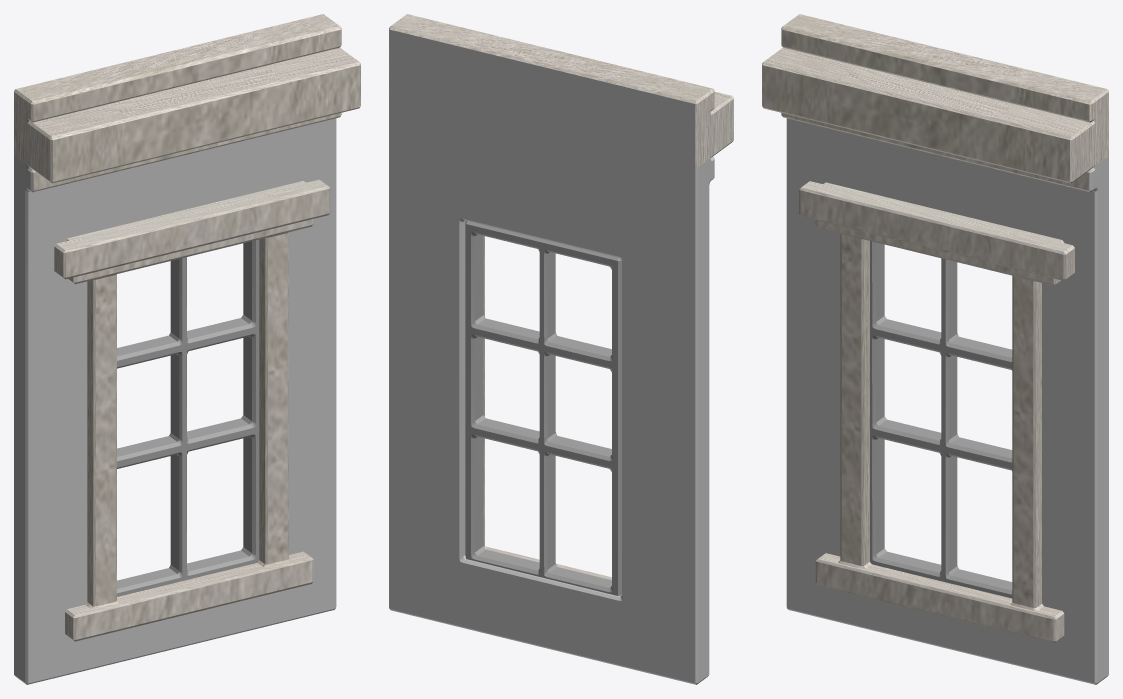
Rendered from WindowV3.fbx.
3 renders of one model, left to right at view 1: azimuth 30°, elevation 25°; view 2: azimuth 150°, elevation 25°; view 3: azimuth 330°, elevation 25°, orthographic.
Visible parts, largest first — view 1: wall80, small_window_frame55, big_window10; view 2: wall80, big_window10, small_window_frame55; view 3: wall80, small_window_frame55, big_window10.
Boxes of the visible parts, x1=… form: wall80: x1=14, y1=14, x2=360, y2=684; small_window_frame55: x1=54, y1=179, x2=330, y2=641; big_window10: x1=117, y1=239, x2=259, y2=596; wall80: x1=389, y1=14, x2=733, y2=684; big_window10: x1=465, y1=221, x2=621, y2=595; small_window_frame55: x1=483, y1=236, x2=611, y2=580; wall80: x1=762, y1=14, x2=1108, y2=684; small_window_frame55: x1=799, y1=181, x2=1074, y2=642; big_window10: x1=870, y1=241, x2=1012, y2=598.
Size of the model in its own units: 294 by 531 by 63.22.
